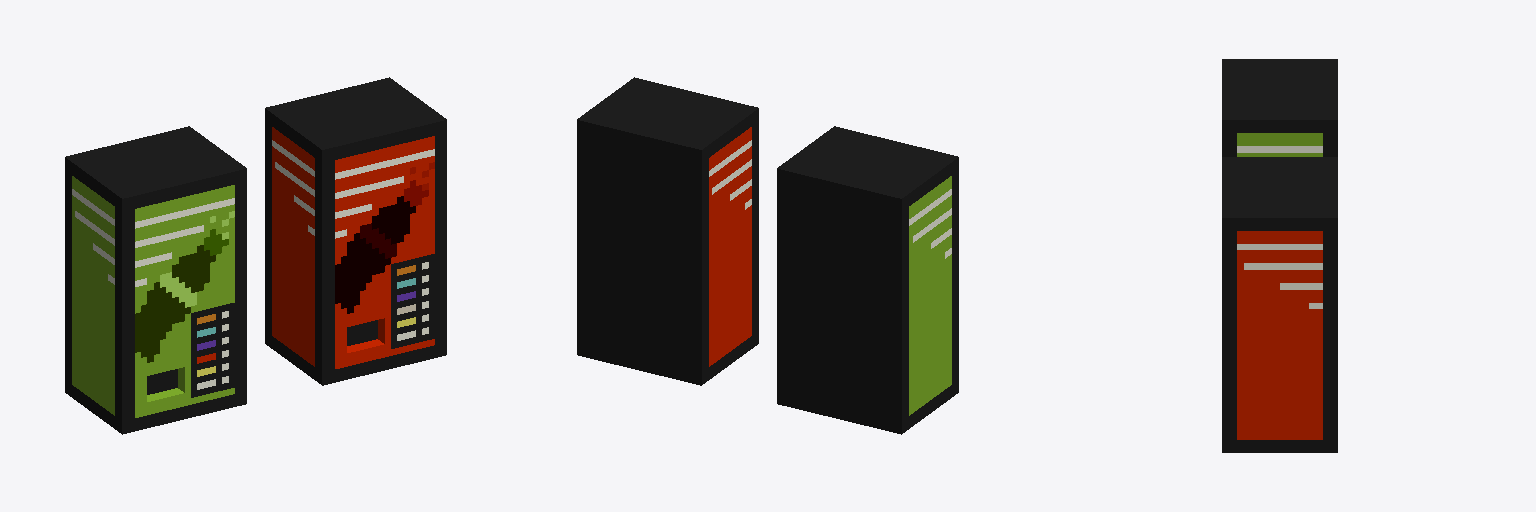
The picture shows the model from 3 angles: view 1: azimuth 30°, elevation 25°; view 2: azimuth 150°, elevation 25°; view 3: azimuth 270°, elevation 25°; orthographic projection.
Visible parts, largest first — view 1: soda1; view 2: soda1; view 3: soda1.
Part boxes in pixels (bbox=[...]): soda1: bbox=[65, 77, 446, 434]; soda1: bbox=[577, 77, 958, 434]; soda1: bbox=[1222, 59, 1337, 452].
Bounding box in the file's own units: 52 × 36 × 16.
1 materials, 1 textured.